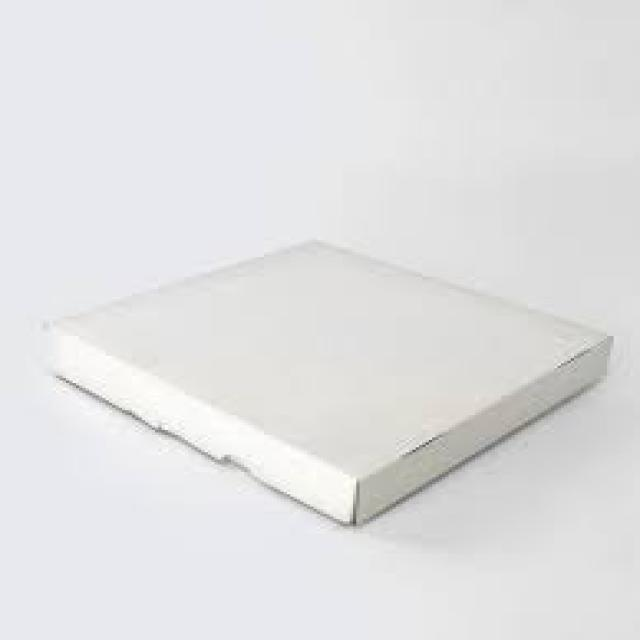cardboard: (46, 237, 607, 524)
